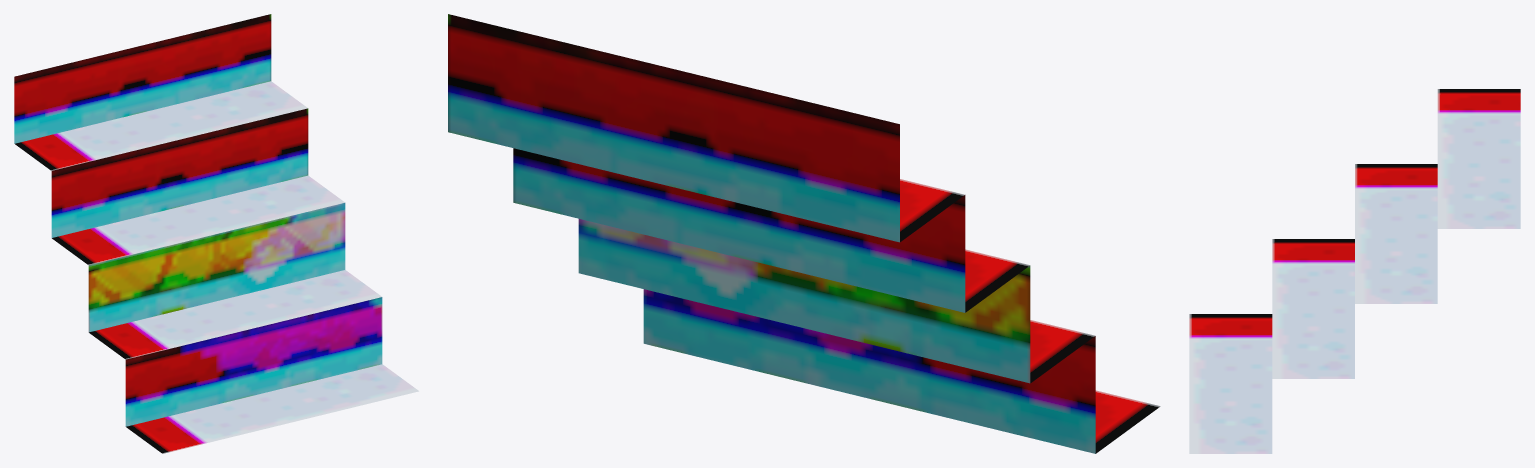
File: arch_winter_stairs_noWalls.FBX
3 views of the same model, side by side, from view 1: azimuth 30°, elevation 25°; view 2: azimuth 150°, elevation 25°; view 3: azimuth 270°, elevation 25° (orthographic). The views are drawn at different scales.
Parts seen in each view (by area): view 1: arch_winter_stairs_noWalls; view 2: arch_winter_stairs_noWalls; view 3: arch_winter_stairs_noWalls.
Boxes of the visible parts, x1=… form: arch_winter_stairs_noWalls: x1=14, y1=14, x2=418, y2=453; arch_winter_stairs_noWalls: x1=448, y1=14, x2=1160, y2=453; arch_winter_stairs_noWalls: x1=1189, y1=89, x2=1520, y2=453.
Bounding box in the file's own units: 2 × 2 × 2.
Materials: 1 (1 with a texture image).
